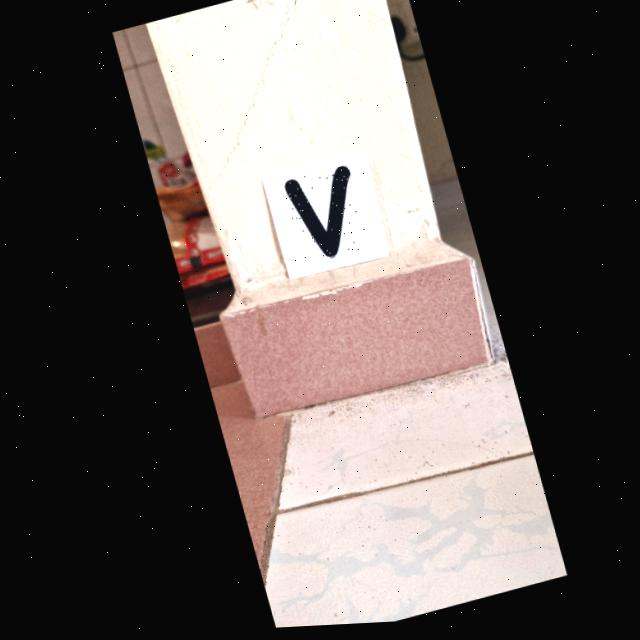V: (281, 170, 347, 261)
